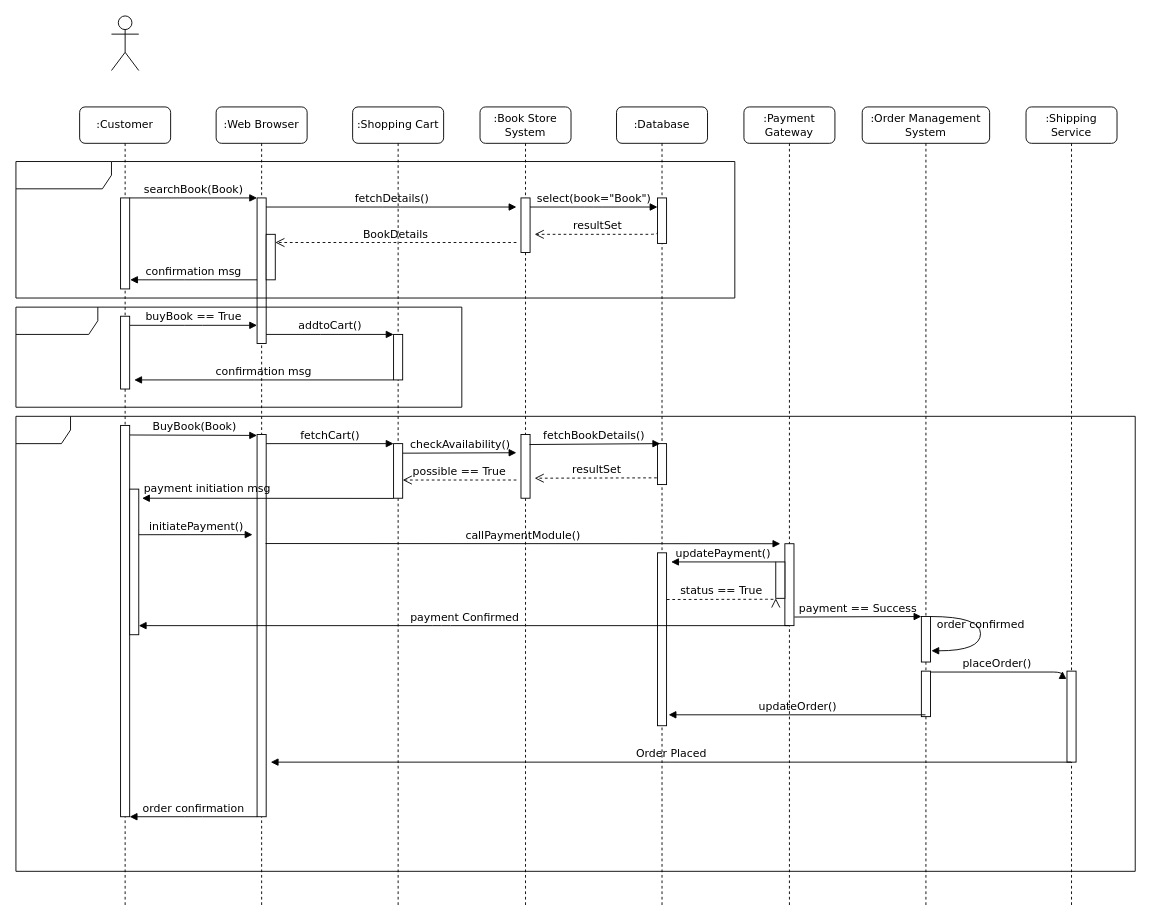
This 1151x924 diagram has some shape labels left out. The shapes that lost their labels are listed below. From the top down, each one's box as (x1, y1, x2, y2) in pixels, then its label:
(111, 15, 139, 71): Customer
(15, 161, 735, 298): Book Search
(15, 306, 462, 407): addToCart
(15, 415, 1135, 871): order
